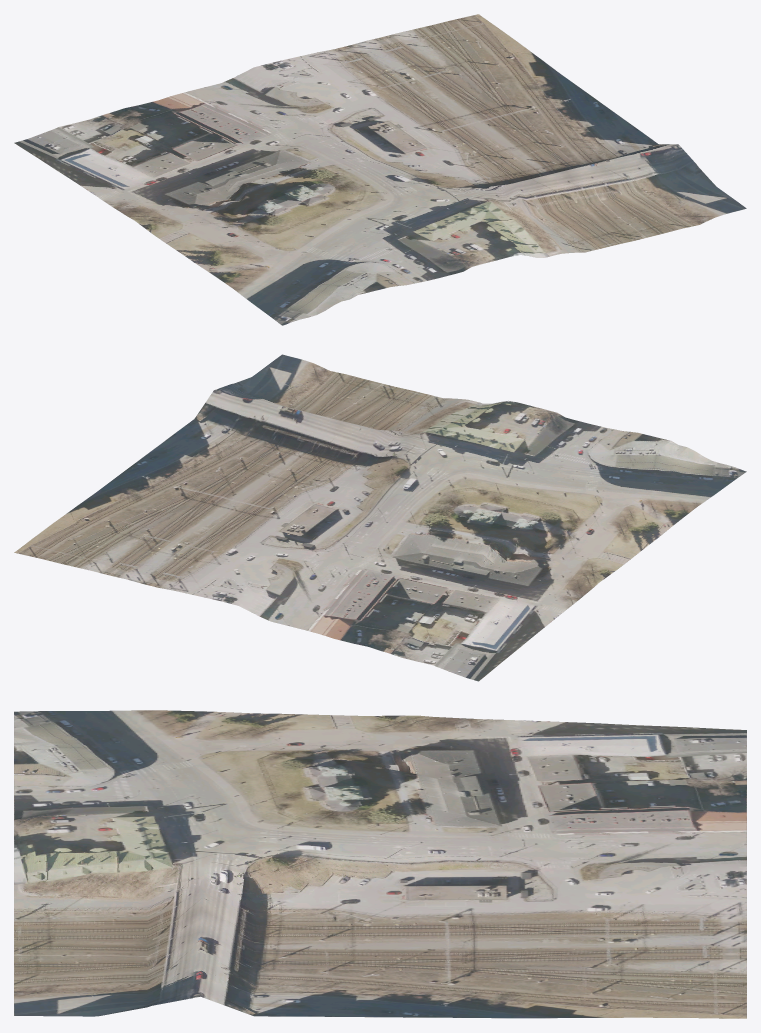
File: CM_Terrain_24487797_6820613.fbx
3 views of the same model, one above another, from view 1: azimuth 30°, elevation 25°; view 2: azimuth 150°, elevation 25°; view 3: azimuth 270°, elevation 25° (orthographic). The views are drawn at different scales.
Parts seen in each view (by area): view 1: CM_Terrain_24487797_6820613_LOD0; view 2: CM_Terrain_24487797_6820613_LOD0; view 3: CM_Terrain_24487797_6820613_LOD0.
Boxes of the visible parts, x1=… form: CM_Terrain_24487797_6820613_LOD0: x1=14, y1=14, x2=746, y2=325; CM_Terrain_24487797_6820613_LOD0: x1=14, y1=354, x2=746, y2=681; CM_Terrain_24487797_6820613_LOD0: x1=14, y1=710, x2=746, y2=1018.
Size of what is drawn, in the model's own units: 205 by 13.67 by 205.
